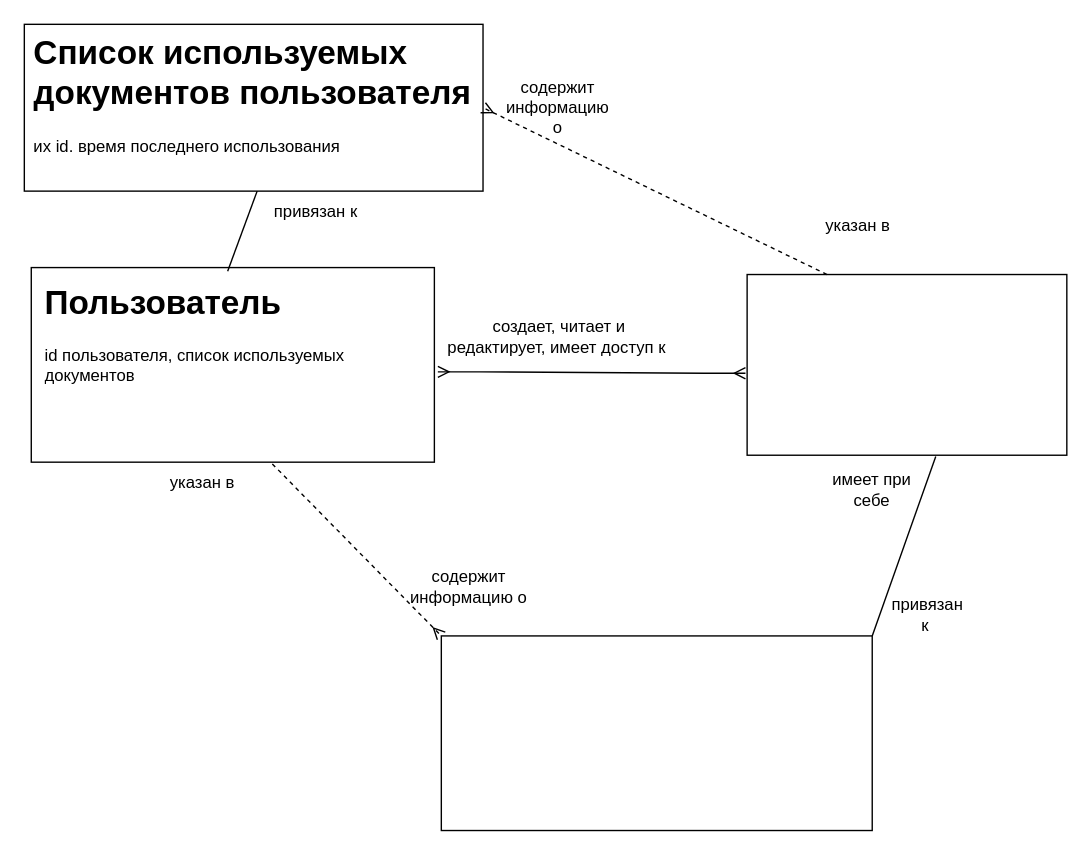
Some shapes in this 1091 by 855 pixel diagram are drawn without their labels. Here are the shapes that lost their labels. From the top down, the centre of each, then its label:
the point at 906,364: Документ id документа, список пользователей, содержание докумета
the point at 656,733: Список пользователей документа id читателей и редакторов, id связанного докумета
